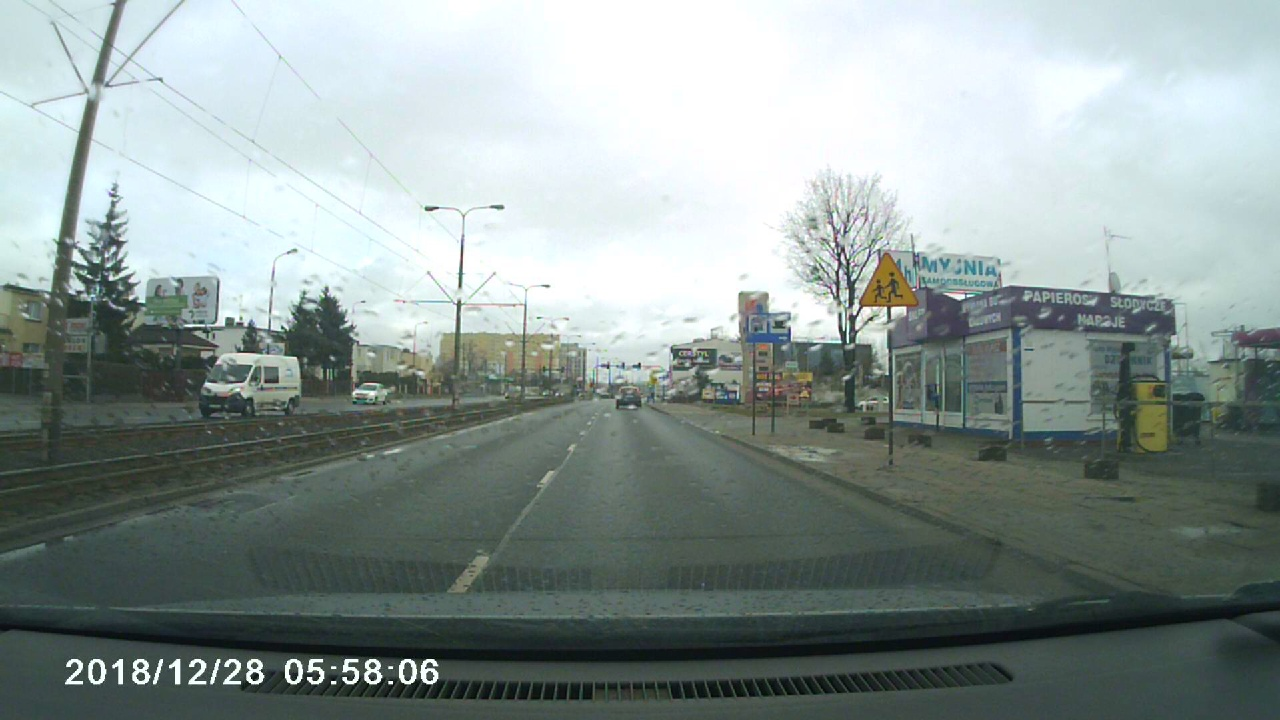A17: (852, 246, 924, 314)
